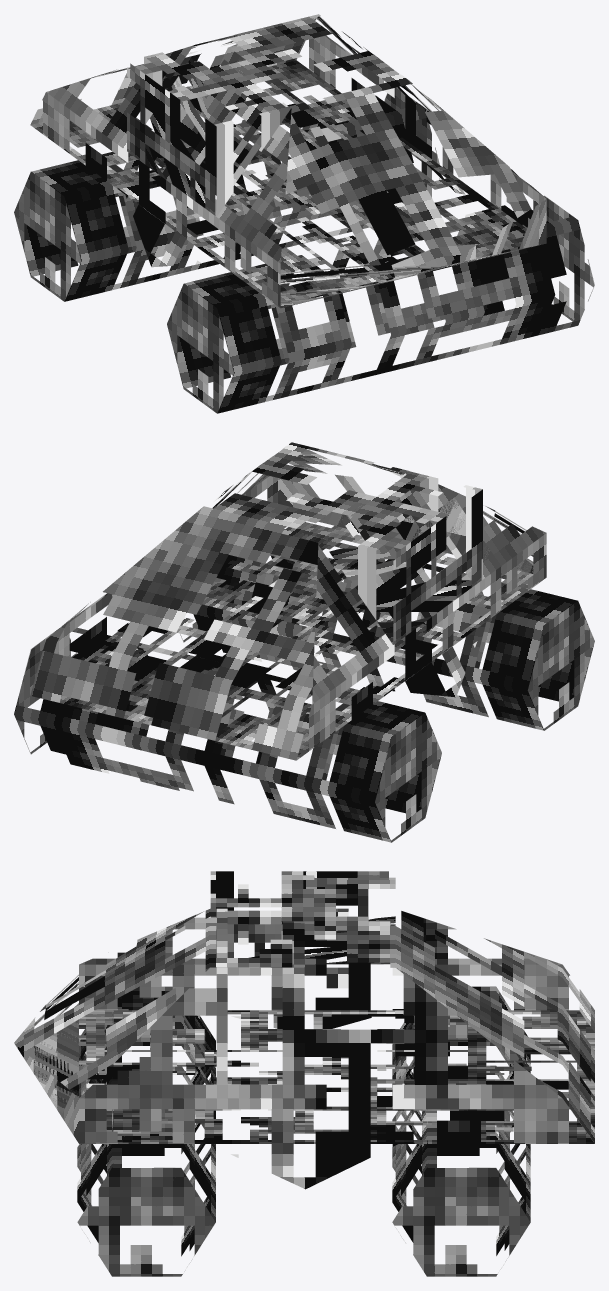
File: hetzer_wreck.glb
The picture shows the model from 3 angles, top to bottom: view 1: azimuth 30°, elevation 25°; view 2: azimuth 150°, elevation 25°; view 3: azimuth 270°, elevation 25°; orthographic projection. The views are drawn at different scales.
Visible parts, largest first — view 1: HetzerL1; view 2: HetzerL1; view 3: HetzerL1.
Boxes of the visible parts, box(x1,y1,x2,y2) form: HetzerL1: box(14, 14, 594, 413); HetzerL1: box(14, 442, 594, 842); HetzerL1: box(14, 871, 594, 1276).
Size of the model in its own units: 5.29 by 3.37 by 7.16.
Materials: 1 (1 with a texture image).
